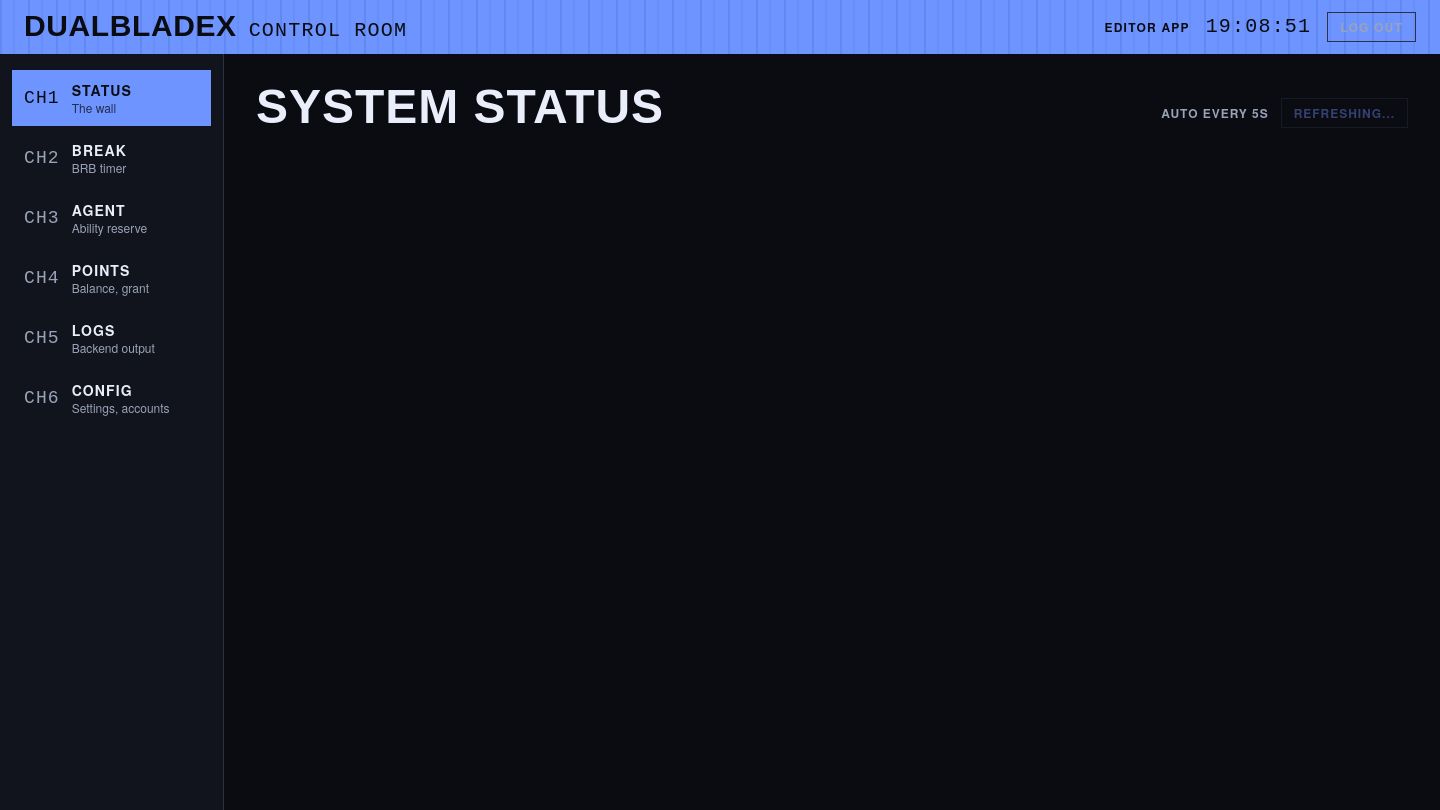
Scenario: AdminDashboard › switches to the Logs tab when clicked
This screenshot has width=1440, height=810.
Click the text "Logs": (94, 330) [72, 320, 116, 340]
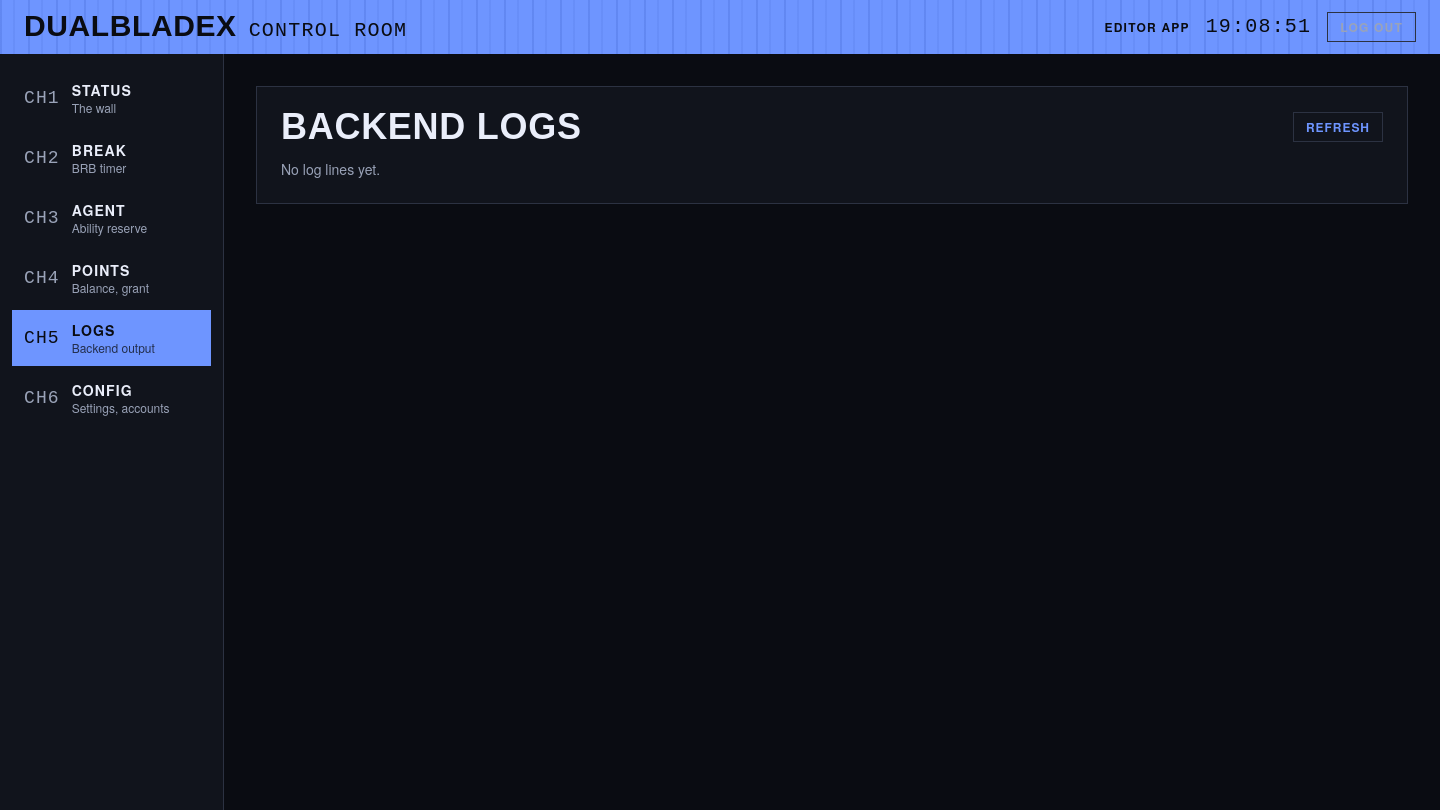
Expected: the heading "Backend Logs" is shown, [281, 111, 582, 143]
